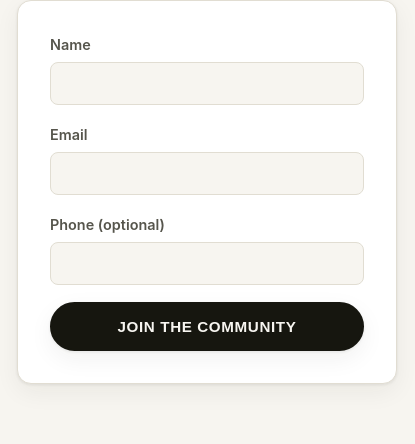
SignupForm › shows a generic error message when the request fails
Type "Ana" into the field labelled "Name" at (207, 84), box [50,62,364,105]
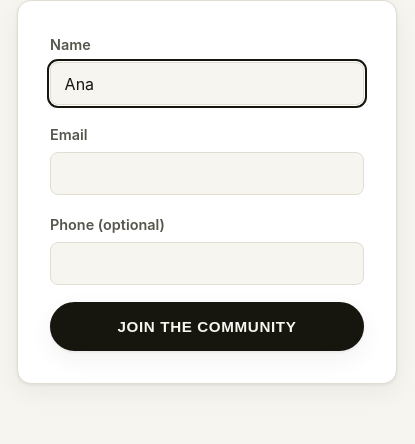
Type "ana@example.com" into the field labelled "Email" at (207, 174), box [50,152,364,195]
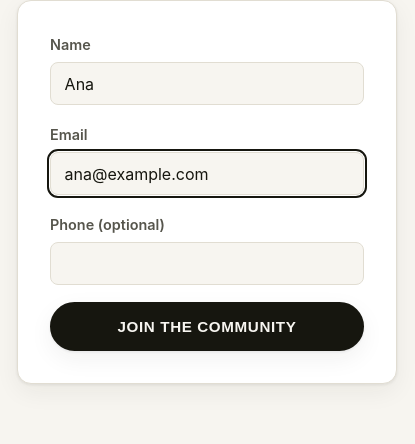
Click the button "Join the community" at (207, 326), box [50,302,364,351]
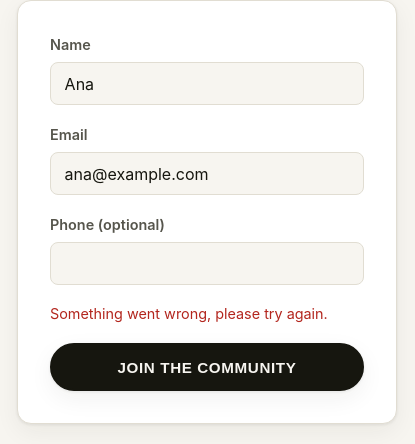
Check: the text "Something went wrong, please try again." is shown, box [50,302,364,325]
